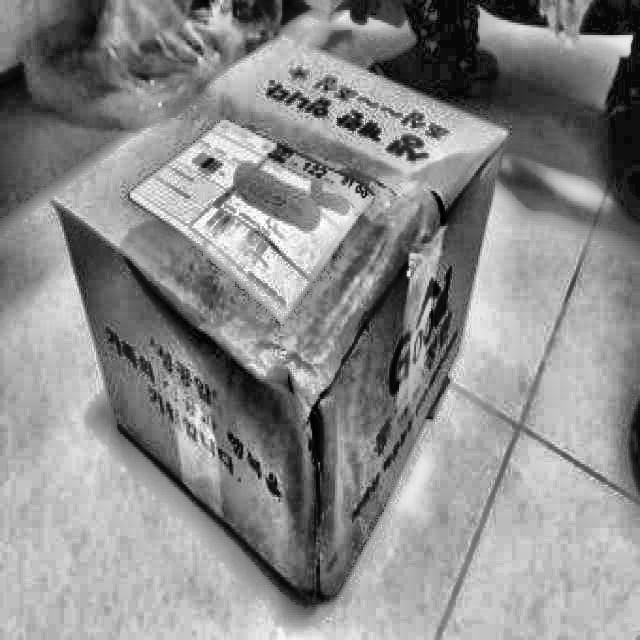box: (44, 23, 523, 622)
wet: (116, 128, 492, 603)
